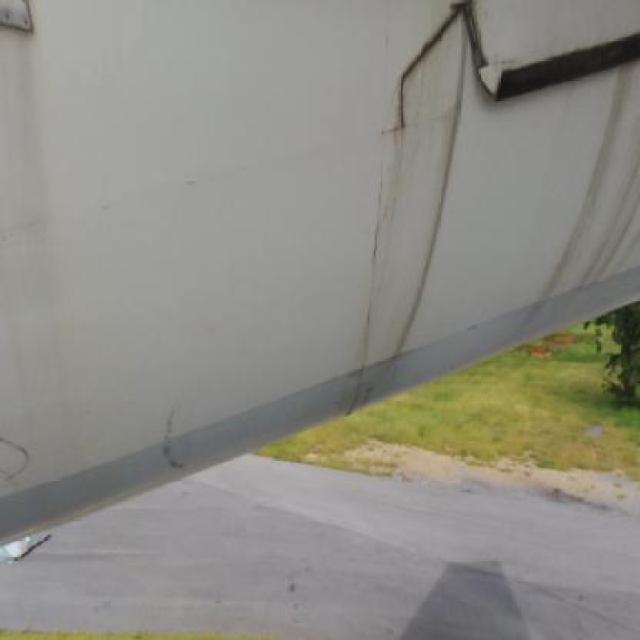Rust: (343, 2, 479, 446), (517, 55, 640, 380), (131, 360, 244, 495), (0, 427, 48, 518)
